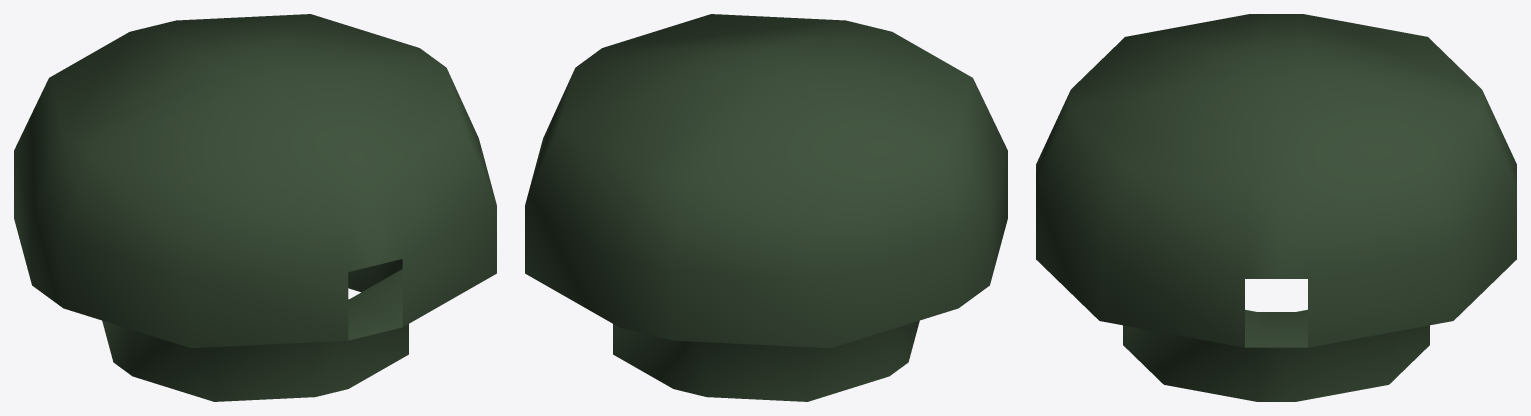
Rendered from Room_1.fbx.
3 views of the same model, side by side, from view 1: azimuth 30°, elevation 25°; view 2: azimuth 150°, elevation 25°; view 3: azimuth 270°, elevation 25° (orthographic).
Visible parts, largest first — view 1: Room Hole; view 2: Room Hole; view 3: Room Hole.
Part boxes in pixels (<box>): Room Hole: <box>14,14,496,401</box>; Room Hole: <box>525,14,1007,401</box>; Room Hole: <box>1036,14,1516,401</box>.
Bounding box in the file's own units: 1200 × 739 × 1200.
